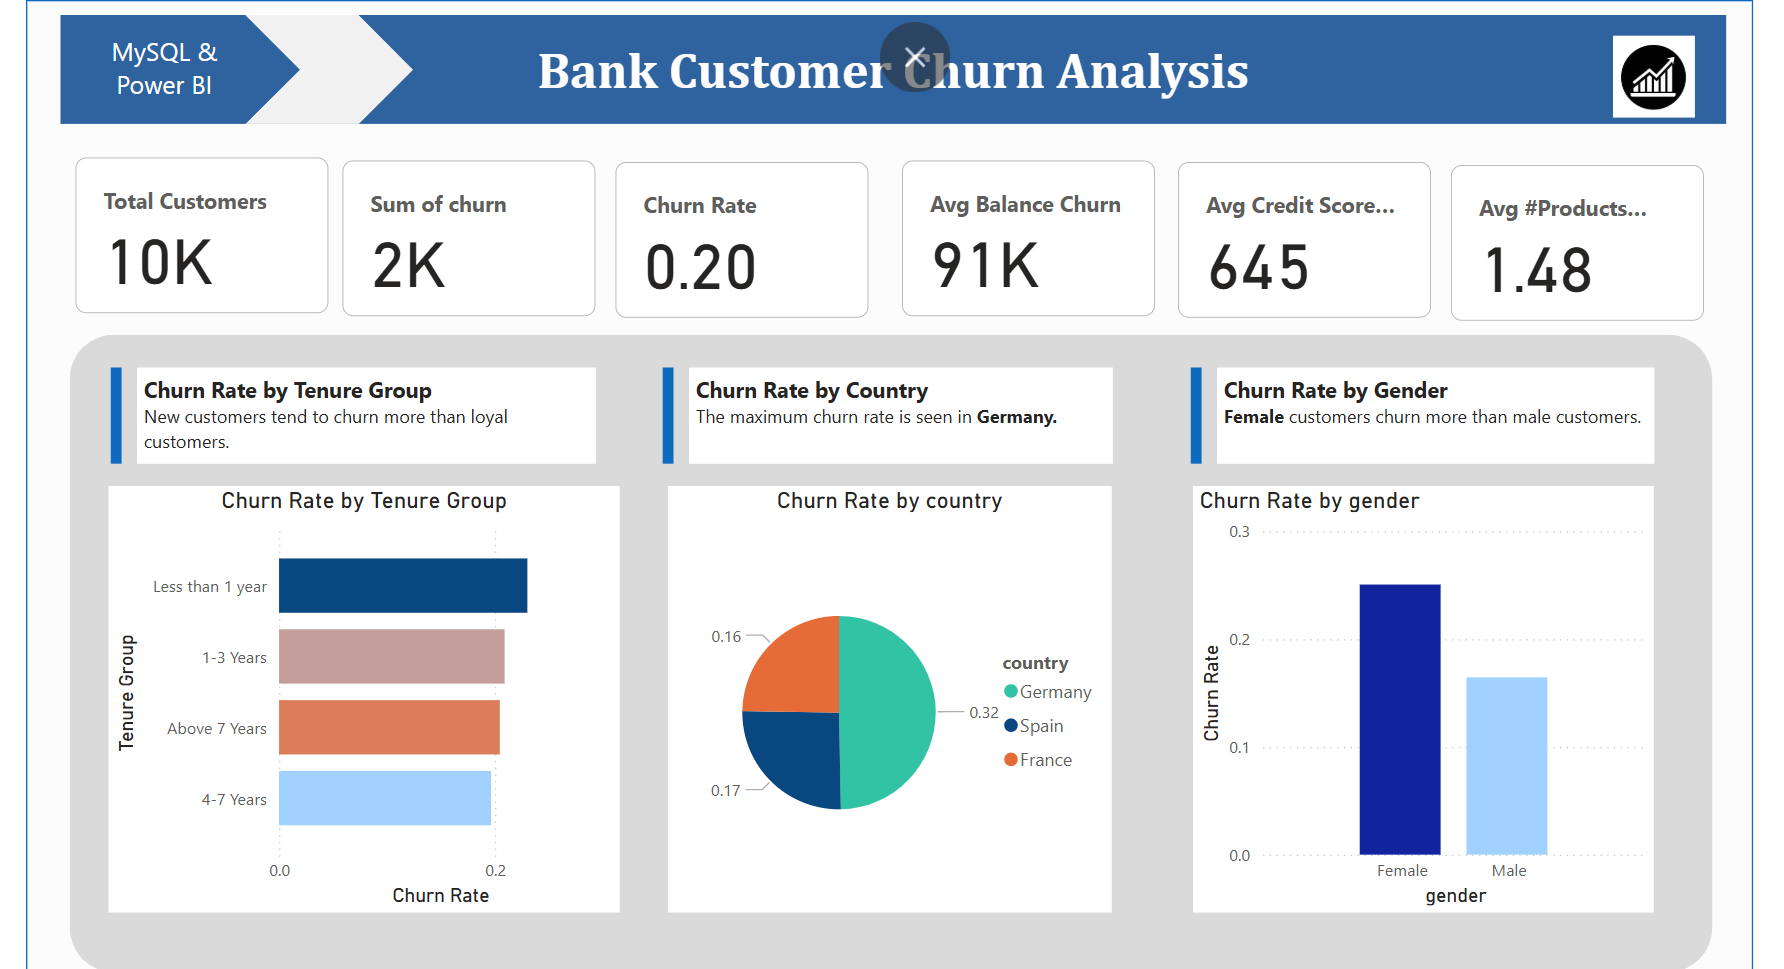

What the dashboard file says about the page in this screenshot:
{"tool":"powerbi","page":{"name":"Page 1","canvas":[1280,720],"ordinal":0},"visuals":[{"type":"shape","box":[0,0,1279.4,720],"z":0},{"type":"shape","box":[25.9,11.3,1233.9,81],"z":1000},{"type":"shape","box":[161.9,11.3,124.7,81],"z":2000},{"type":"shape","box":[43.7,11.3,118.2,77.7],"z":3000},{"type":"cardVisual","fields":{"Data":["churn_analysis bank.Churn Rate"]},"box":[437.2,120.3,187.1,115.3],"z":4000},{"type":"cardVisual","fields":{"Data":["churn_analysis bank.Total Customers"]},"box":[36.5,116.5,187.1,115.3],"z":5000},{"type":"cardVisual","fields":{"Data":["churn_analysis bank.Avg Balance Churn"]},"box":[648.8,118.4,187.1,115.3],"z":6000},{"type":"cardVisual","fields":{"Data":["churn_analysis bank.Avg Credit Score Churn"]},"box":[852.9,120.3,187.1,115.3],"z":7000},{"type":"cardVisual","fields":{"Data":["churn_analysis bank.Avg #Products Churned"]},"box":[1055.1,122.2,187.1,115.3],"z":8000},{"type":"cardVisual","fields":{"Data":["Sum(churn_analysis bank.churn)"]},"box":[235,118.4,187.1,115.3],"z":9000},{"type":"shape","box":[32.1,247.6,1217,472.4],"z":10000},{"type":"barChart","fields":{"Y":["churn_analysis bank.Churn Rate"],"Category":["churn_analysis bank.Tenure Group"]},"box":[61.5,359.5,378.9,315.7],"z":11000},{"type":"pieChart","fields":{"Y":["churn_analysis bank.Churn Rate"],"Category":["churn_analysis bank.country"]},"box":[476.1,359.5,328.7,315.7],"z":12000},{"type":"clusteredColumnChart","fields":{"Y":["churn_analysis bank.Churn Rate"],"Category":["churn_analysis bank.gender"]},"box":[864.7,359.5,341.7,315.7],"z":13000},{"type":"image","box":[1169.1,21,74.5,71.2],"z":14000},{"type":"shape","box":[4.9,272,124.7,71.2],"z":15000},{"type":"textbox","box":[82.6,272,340,71.2],"z":16000},{"type":"shape","box":[440.4,272,71.2,71.2],"z":17000},{"type":"textbox","box":[490.6,272,314.1,71.2],"z":18000},{"type":"shape","box":[804.8,272,124.7,71.2],"z":19000},{"type":"textbox","box":[882.5,272,323.8,71.2],"z":20000}]}

Visuals, with their boxes on the page's 1280x720 design canvas (x1, y1, x2, y2). These are canvas units, not pixel positions in the 1784x969 screenshot, which may show the page scaled, cropped or inside an application window:
shape: [0, 0, 1279, 720]
shape: [26, 11, 1260, 92]
shape: [162, 11, 287, 92]
shape: [44, 11, 162, 89]
cardVisual - churn_analysis bank.Churn Rate: [437, 120, 624, 236]
cardVisual - churn_analysis bank.Total Customers: [36, 116, 224, 232]
cardVisual - churn_analysis bank.Avg Balance Churn: [649, 118, 836, 234]
cardVisual - churn_analysis bank.Avg Credit Score Churn: [853, 120, 1040, 236]
cardVisual - churn_analysis bank.Avg #Products Churned: [1055, 122, 1242, 238]
cardVisual - Sum(churn_analysis bank.churn): [235, 118, 422, 234]
shape: [32, 248, 1249, 720]
barChart - churn_analysis bank.Churn Rate x churn_analysis bank.Tenure Group: [62, 360, 440, 675]
pieChart - churn_analysis bank.Churn Rate x churn_analysis bank.country: [476, 360, 805, 675]
clusteredColumnChart - churn_analysis bank.Churn Rate x churn_analysis bank.gender: [865, 360, 1206, 675]
image: [1169, 21, 1244, 92]
shape: [5, 272, 130, 343]
textbox: [83, 272, 423, 343]
shape: [440, 272, 512, 343]
textbox: [491, 272, 805, 343]
shape: [805, 272, 930, 343]
textbox: [882, 272, 1206, 343]
